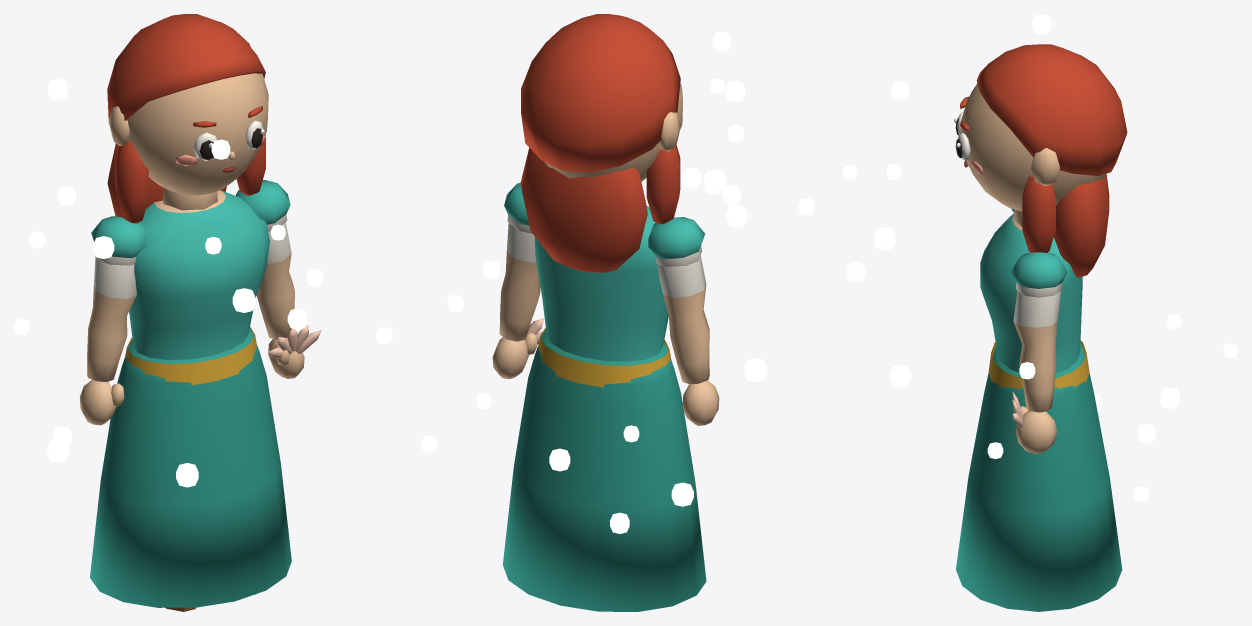
The model's file is sirene.glb.
3 views of the same model, side by side, from view 1: azimuth 30°, elevation 25°; view 2: azimuth 150°, elevation 25°; view 3: azimuth 270°, elevation 25° (orthographic). The views are drawn at different scales.
Visible parts, largest first — view 1: huefte, rumpf, haare, kopf, armL, armR, vfx_blasen_0, vfx_blasen_2, vfx_blasen_1, itemR; view 2: huefte, haare, rumpf, armL, armR, vfx_blasen_2, vfx_blasen_0, vfx_blasen_1, kopf; view 3: huefte, haare, rumpf, armR, kopf, vfx_blasen_2, vfx_blasen_1, vfx_blasen_0.
Boxes of the visible parts, x1,y1,x2,y2 form: huefte: (90, 328, 291, 607); rumpf: (125, 190, 269, 385); haare: (107, 14, 265, 223); kopf: (108, 73, 268, 210); armL: (79, 216, 146, 425); armR: (235, 180, 304, 378); vfx_blasen_0: (14, 139, 392, 462); vfx_blasen_2: (48, 78, 323, 487); vfx_blasen_1: (29, 224, 285, 445); itemR: (268, 325, 321, 358); huefte: (503, 329, 706, 611); haare: (520, 14, 680, 272); rumpf: (534, 205, 670, 387); armL: (648, 217, 719, 425); armR: (492, 182, 540, 379); vfx_blasen_2: (421, 80, 767, 471); vfx_blasen_0: (447, 31, 747, 506); vfx_blasen_1: (476, 78, 814, 533); kopf: (544, 83, 682, 181); huefte: (956, 342, 1122, 611); haare: (976, 44, 1127, 277); rumpf: (980, 213, 1089, 389); armR: (1010, 252, 1067, 453); kopf: (960, 83, 1106, 226); vfx_blasen_2: (889, 14, 1179, 502); vfx_blasen_1: (843, 163, 1237, 443); vfx_blasen_0: (846, 81, 1181, 458).
Size of the model in its own units: 1.56 by 2.29 by 1.54.
